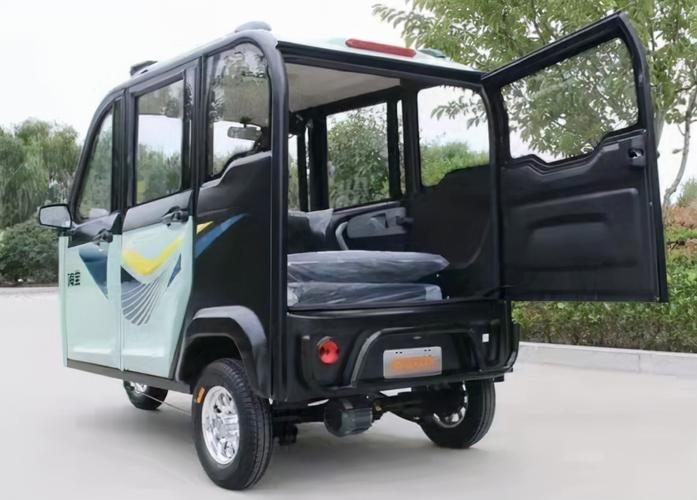empty: (36, 23, 635, 454)
